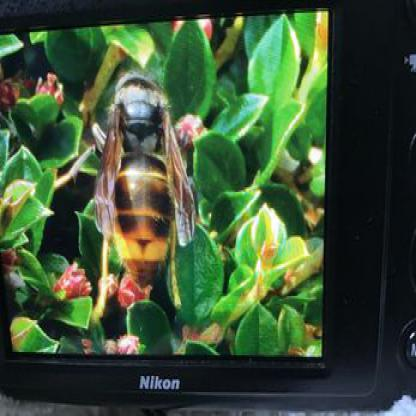Asian Hornet: (81, 69, 198, 294)
